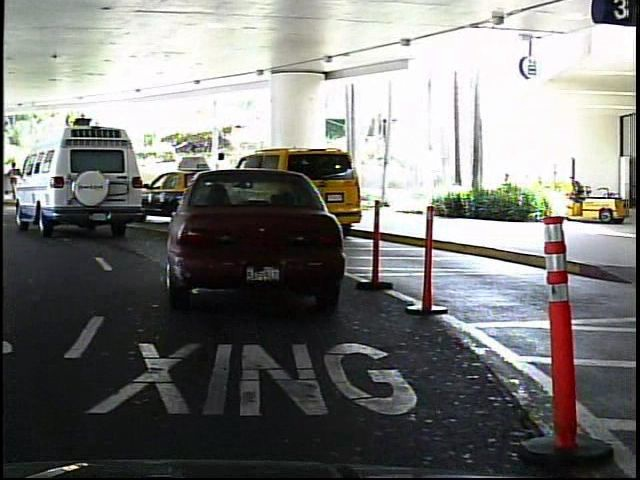person: (209, 149, 236, 215), (45, 157, 65, 200), (5, 157, 22, 198)
